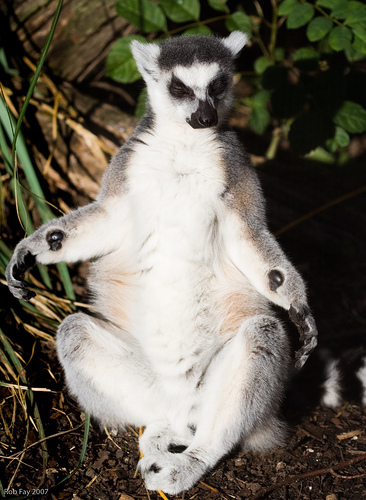cat: (2, 31, 364, 492)
